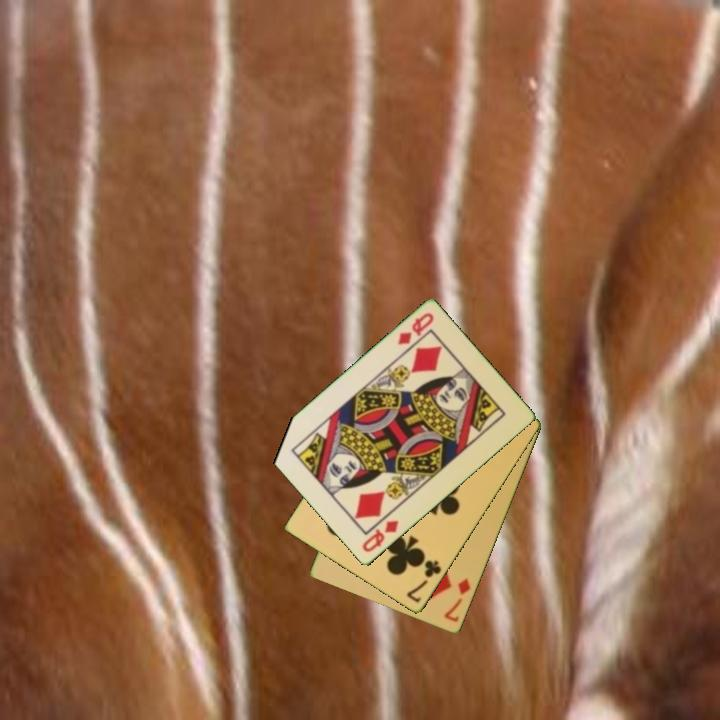7c: (403, 557, 444, 606)
7d: (440, 575, 474, 626)
Qd: (394, 309, 437, 348), (359, 517, 401, 556)
